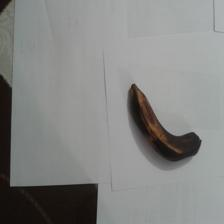Banana Rotten: (116, 68, 207, 177)
